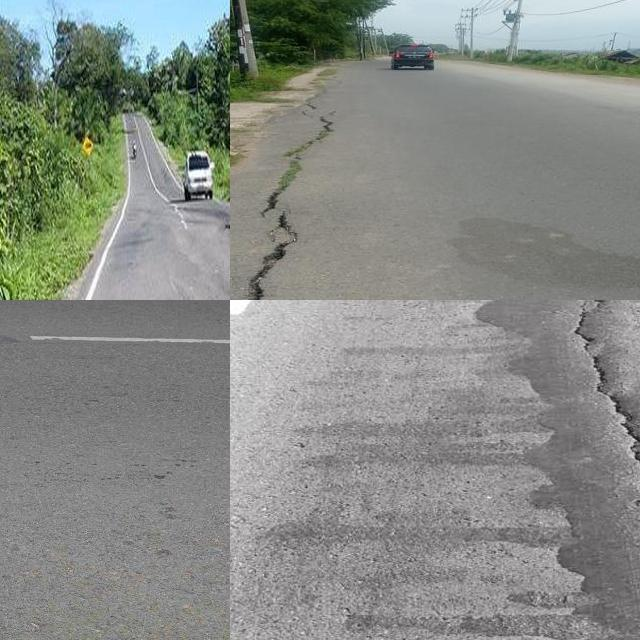Memanjang: (230, 99, 347, 300), (564, 300, 640, 554)
